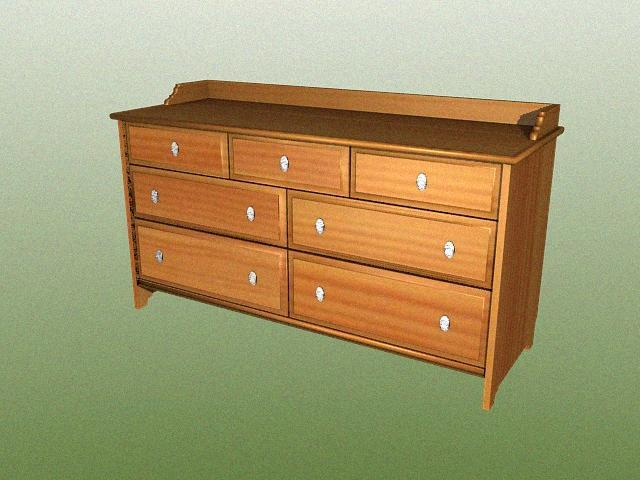cabinet_door: (288, 269, 488, 343), (286, 204, 494, 269), (137, 233, 288, 299), (132, 176, 286, 233), (351, 156, 500, 208), (229, 140, 351, 188), (127, 128, 229, 172)
handle: (440, 239, 459, 260), (435, 314, 453, 335), (310, 215, 327, 237), (312, 282, 328, 304), (414, 170, 431, 190), (277, 155, 292, 175), (242, 203, 255, 225), (245, 269, 259, 289), (154, 247, 167, 267), (167, 142, 181, 158), (149, 188, 160, 207)
